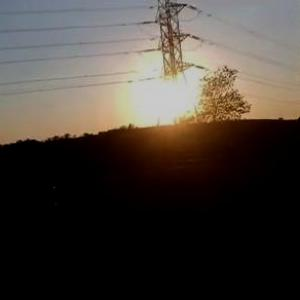follow: (10, 168, 96, 299)
